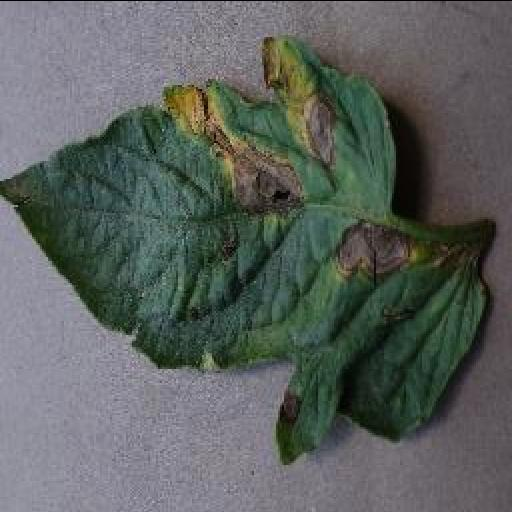disease_tomato: (0, 34, 498, 464)
